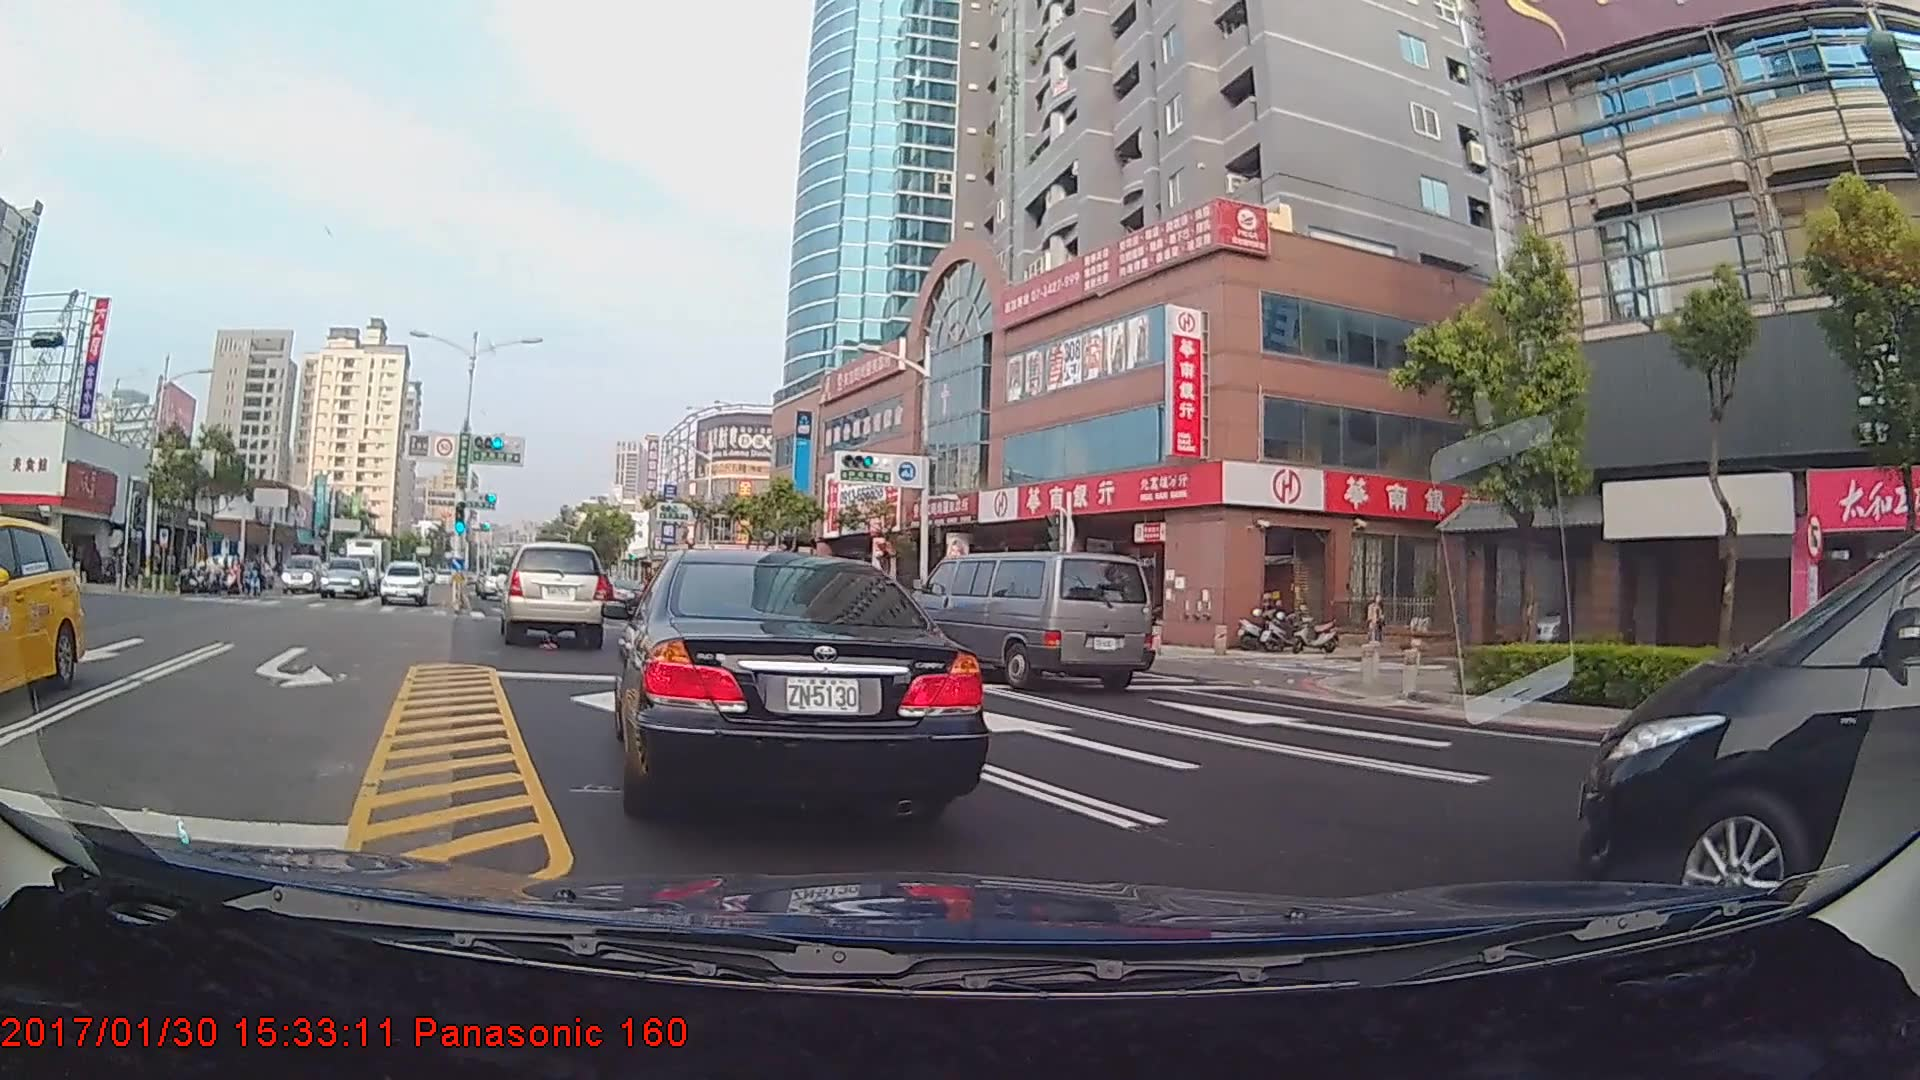pedestrian: (1359, 595, 1388, 659)
vehicle: (1562, 490, 1910, 897), (620, 541, 976, 820), (904, 548, 1155, 693), (0, 513, 83, 704), (500, 541, 607, 645), (338, 534, 393, 593), (380, 559, 430, 607), (319, 556, 370, 600), (478, 564, 515, 601), (282, 553, 320, 588)
